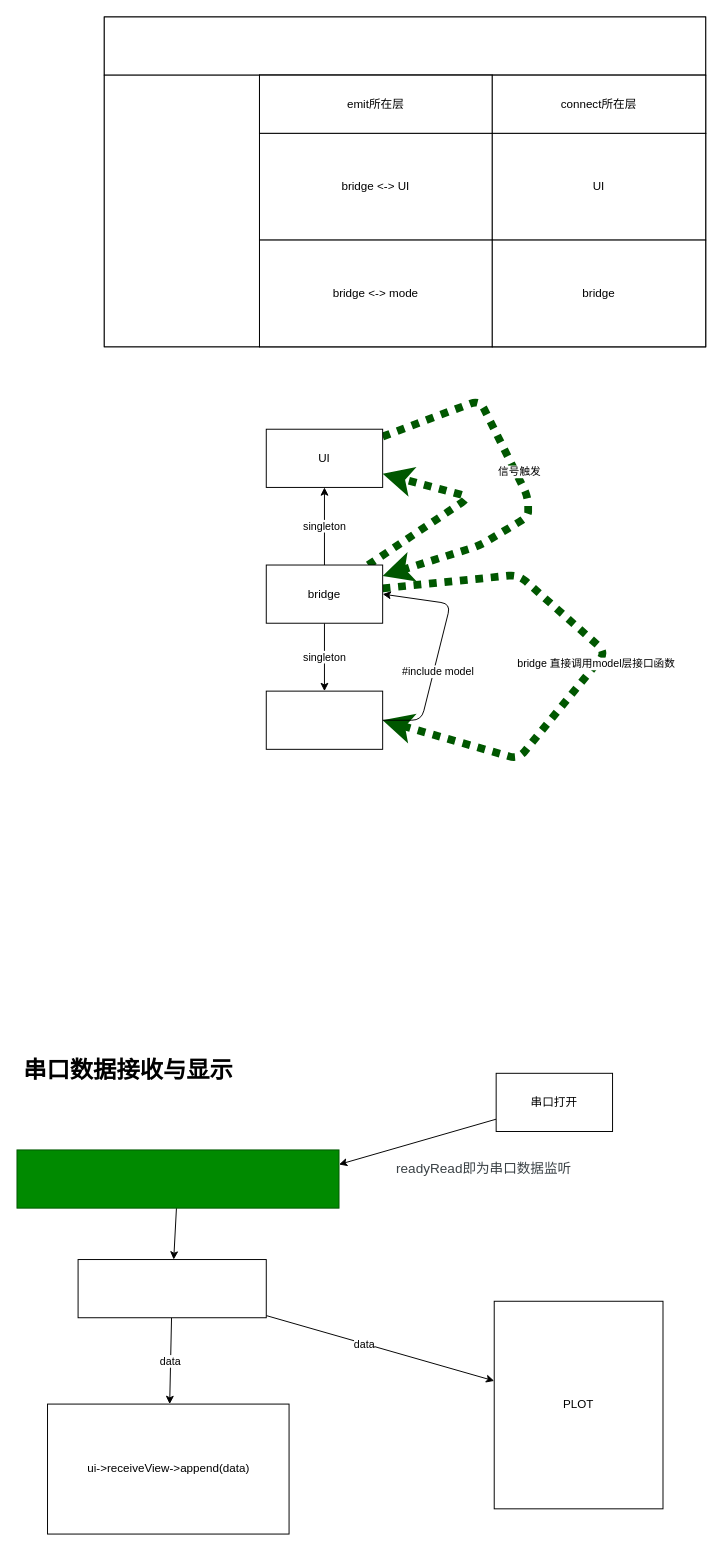
This 723x1551 diagram has some shape labels left out. Each missing label, with the centre of its shape:
"model" belongs at (x=324, y=719).
"MVC" belongs at (x=404, y=45).
"serialPort - signal - readyRead()" belongs at (x=177, y=1178).
"slot - st_readPortData()" belongs at (x=171, y=1288).
